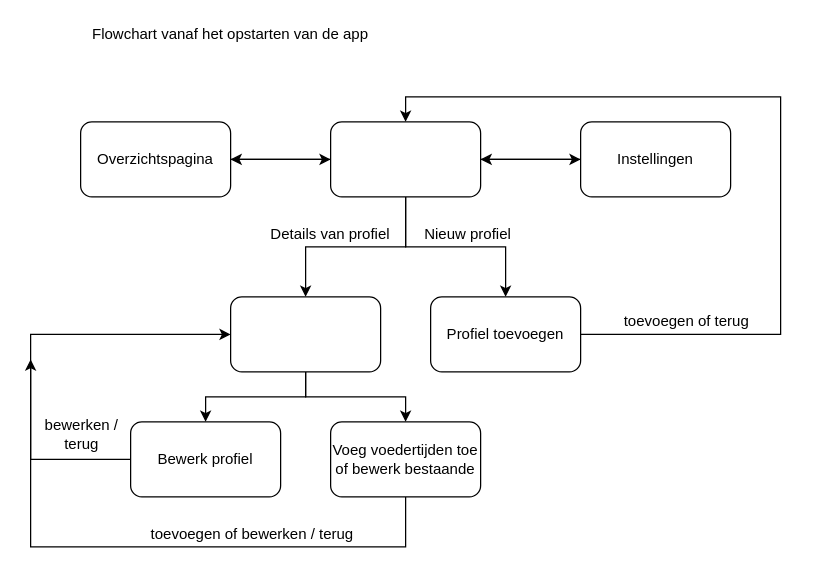
Some shapes in this 813 by 579 pixel diagram are drawn without their labels. The shapes that lost their labels are listed below. From the top down, each one's centre as x and y in pixels, then its label:
(x=405, y=159): Planning & profielen
(x=305, y=334): Profiel details
